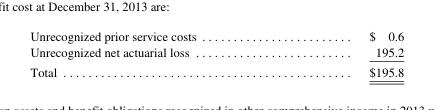table: (29, 29, 403, 78)
table column: (29, 29, 282, 78), (282, 29, 403, 78)
table row: (29, 43, 403, 61), (29, 61, 403, 78), (29, 29, 403, 43)
